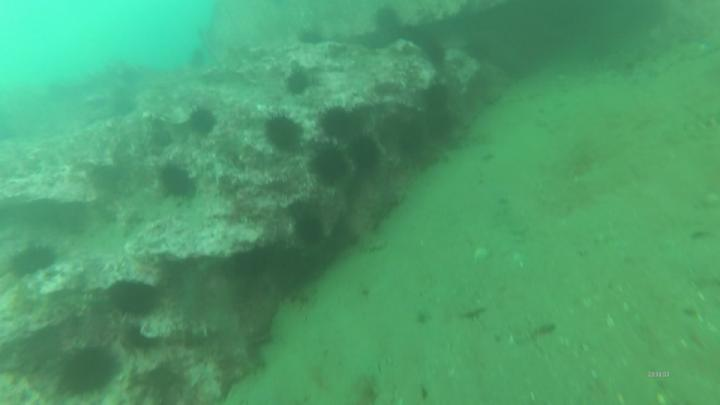echinus: (59, 340, 128, 402), (102, 277, 166, 321), (151, 156, 201, 207), (261, 110, 307, 157), (307, 142, 352, 190), (9, 242, 62, 282), (314, 103, 361, 144), (181, 105, 224, 144), (290, 211, 331, 251), (372, 5, 407, 43), (286, 64, 312, 100)
